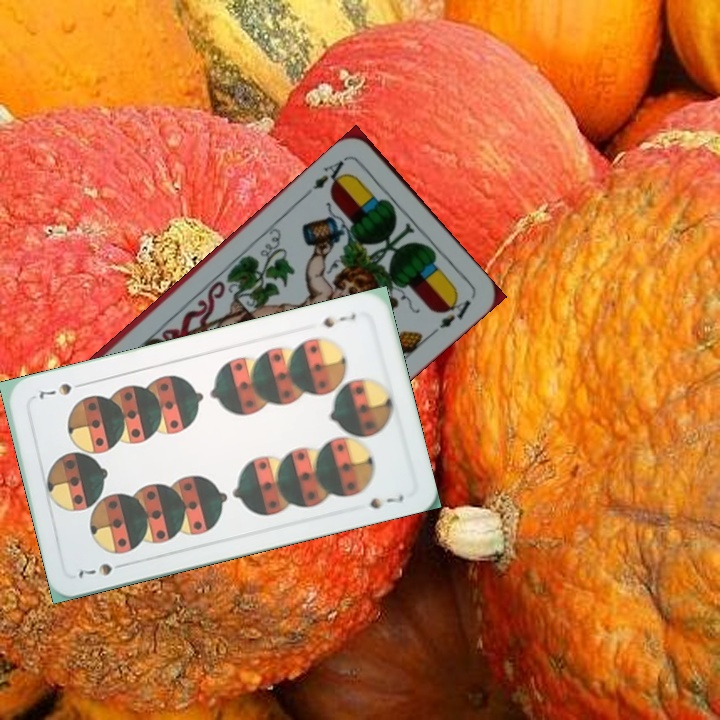EA: (309, 153, 352, 193)
S7: (71, 558, 130, 581), (319, 309, 359, 331)
